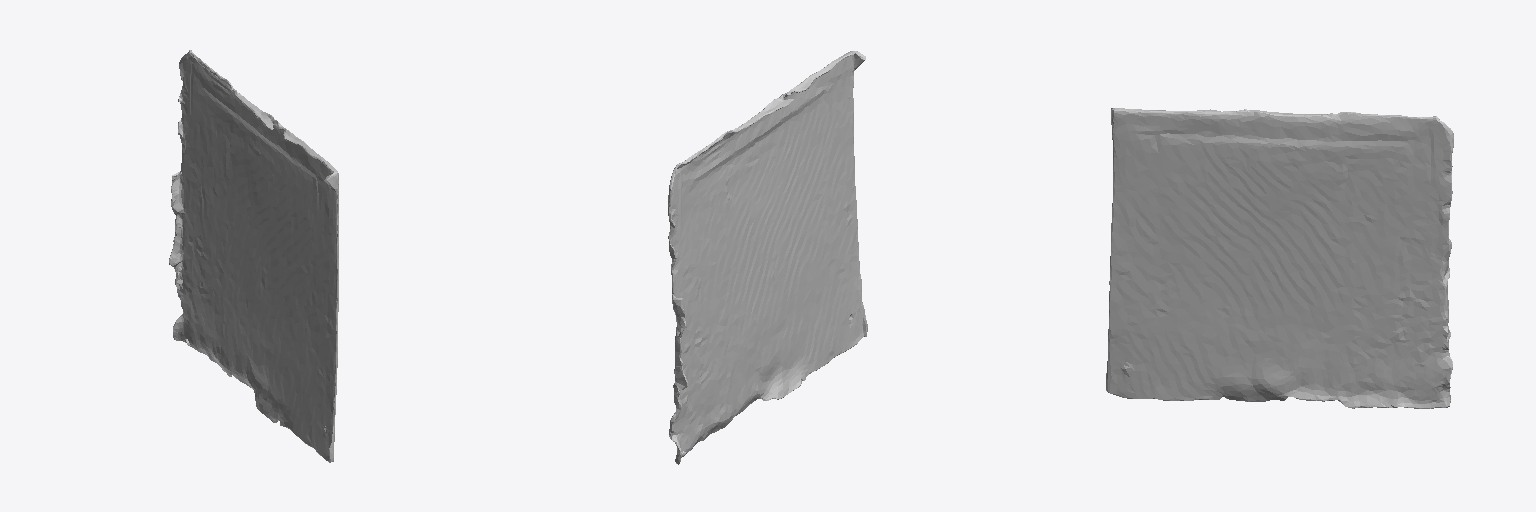
The model's file is làm_cho_tôi_một_t_0825022144_texture.obj.
3 views of the same model, side by side, from view 1: azimuth 30°, elevation 25°; view 2: azimuth 150°, elevation 25°; view 3: azimuth 270°, elevation 25° (orthographic).
Parts seen in each view (by area): view 1: model; view 2: model; view 3: model.
Part boxes in pixels (x1,y1,x2,y2): model: (169,50,338,462); model: (668,51,867,464); model: (1106,108,1453,408).
Size of the model in its own units: 0.1958 by 1.88 by 2.